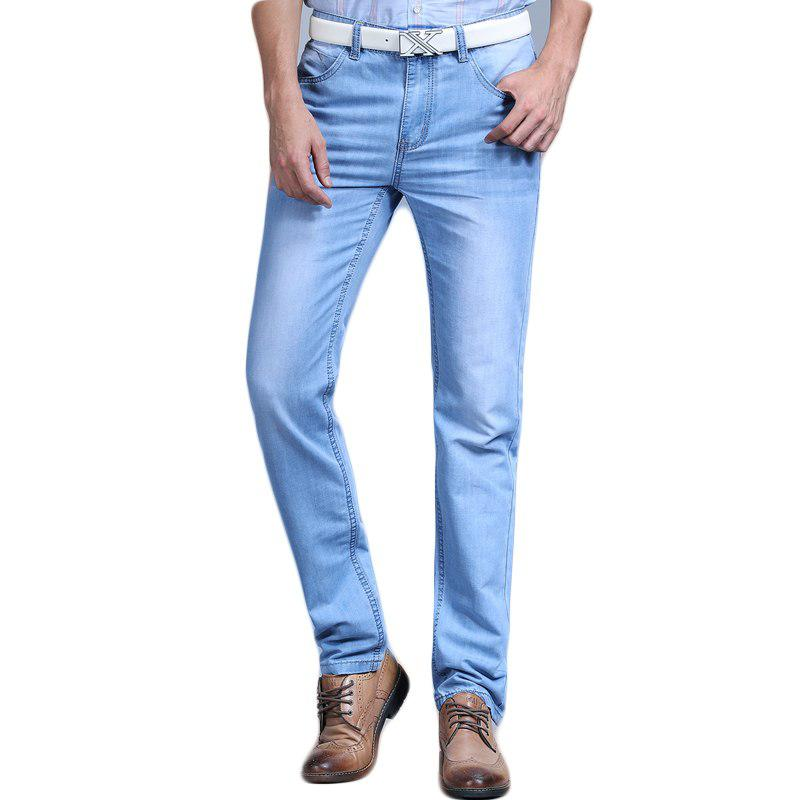jeans: (221, 32, 576, 698)
